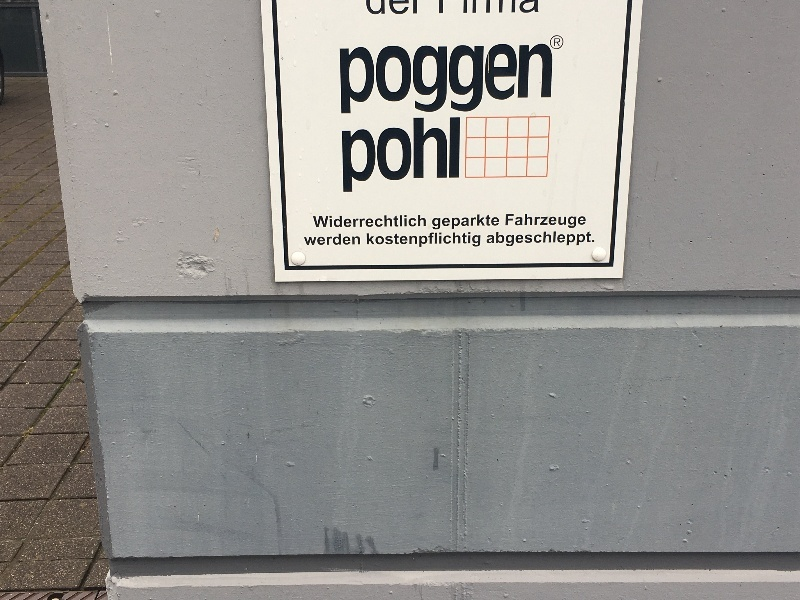text: (353, 117, 368, 193), (369, 117, 384, 193), (385, 117, 400, 193), (401, 117, 416, 193), (417, 117, 432, 193), (433, 117, 448, 193), (353, 44, 368, 115), (369, 44, 384, 115), (385, 44, 400, 115), (401, 44, 416, 115), (417, 44, 432, 115), (433, 44, 448, 115), (449, 44, 464, 115), (465, 44, 480, 115), (481, 44, 496, 115), (497, 44, 512, 115), (513, 44, 528, 115), (529, 44, 544, 115), (449, 117, 461, 193), (340, 44, 352, 115), (342, 117, 352, 193), (545, 44, 553, 115), (465, 232, 481, 247), (433, 215, 448, 230), (449, 215, 464, 230), (465, 215, 480, 230), (481, 215, 496, 230), (369, 232, 384, 247), (385, 232, 400, 247), (401, 232, 416, 247), (417, 232, 432, 247), (433, 232, 448, 247), (449, 232, 464, 247), (497, 232, 512, 247), (513, 232, 528, 247), (529, 232, 544, 247), (545, 232, 560, 247), (561, 232, 576, 247), (577, 232, 592, 247), (369, 1, 384, 15), (385, 1, 400, 15), (401, 1, 416, 15), (417, 1, 432, 15), (433, 1, 448, 15), (449, 1, 464, 15), (465, 1, 480, 15), (481, 1, 496, 15), (497, 1, 512, 15), (513, 1, 528, 15), (513, 214, 528, 228), (529, 214, 544, 228), (545, 214, 560, 228), (561, 214, 576, 228), (321, 216, 336, 228), (337, 216, 352, 228), (353, 216, 368, 228), (369, 216, 384, 228), (385, 216, 400, 228), (401, 216, 416, 228), (305, 234, 320, 246), (321, 234, 336, 246), (337, 234, 352, 246), (529, 1, 539, 15), (577, 214, 586, 228), (488, 232, 496, 247), (417, 216, 426, 228), (313, 216, 320, 228), (506, 214, 512, 228), (353, 234, 360, 246), (497, 215, 500, 230), (555, 39, 560, 47), (593, 232, 595, 247), (366, 1, 368, 15), (367, 232, 368, 247), (303, 234, 304, 246)
